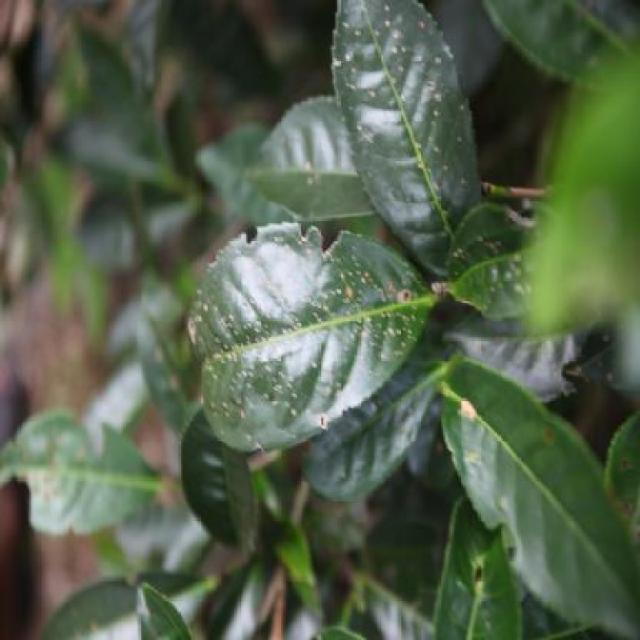Leaf rust of tea: (186, 211, 454, 455), (334, 0, 488, 295)
